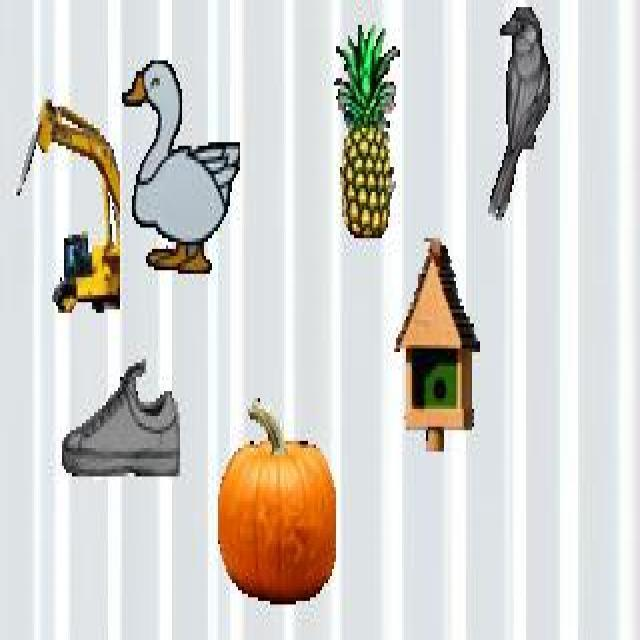Other Objects: (121, 60, 241, 272), (61, 360, 180, 478), (487, 4, 550, 220)
